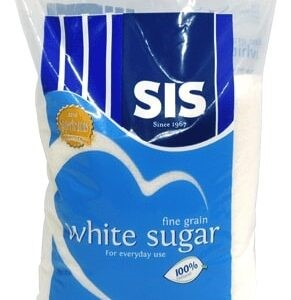sis white sugar: (15, 1, 264, 300)
